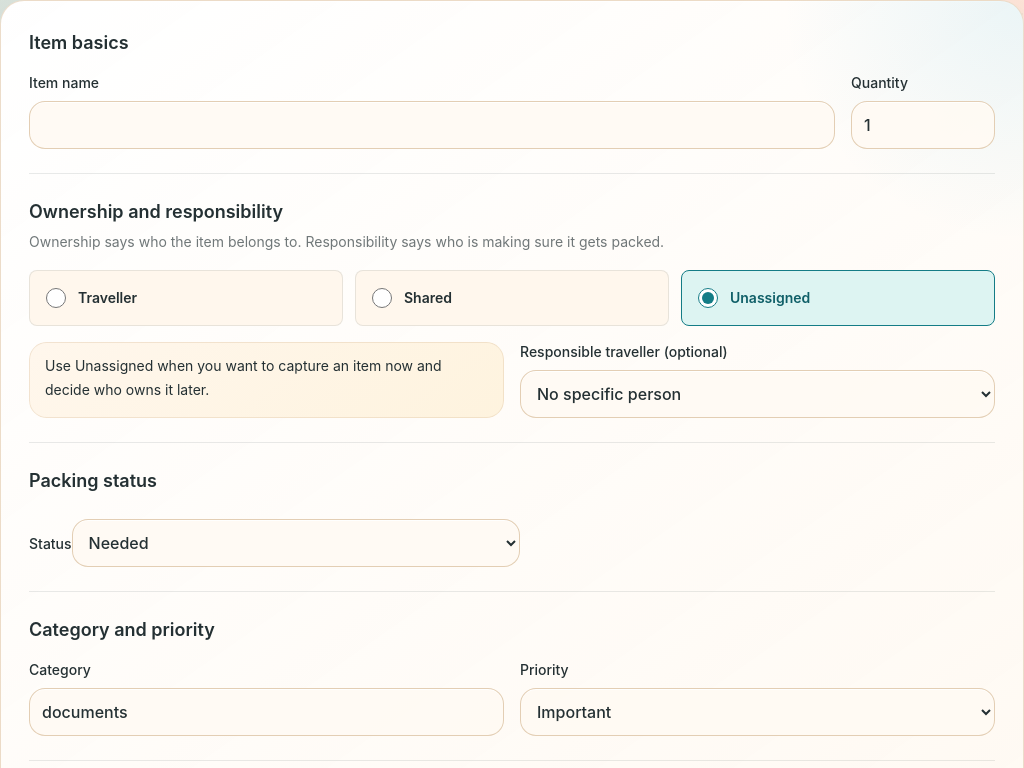
Test case: PackingItemForm › requires a traveller for traveller ownership
Type "Passport" into the field labelled "Item name".
click(432, 125); type("Passport")  # box [29,101,835,149]
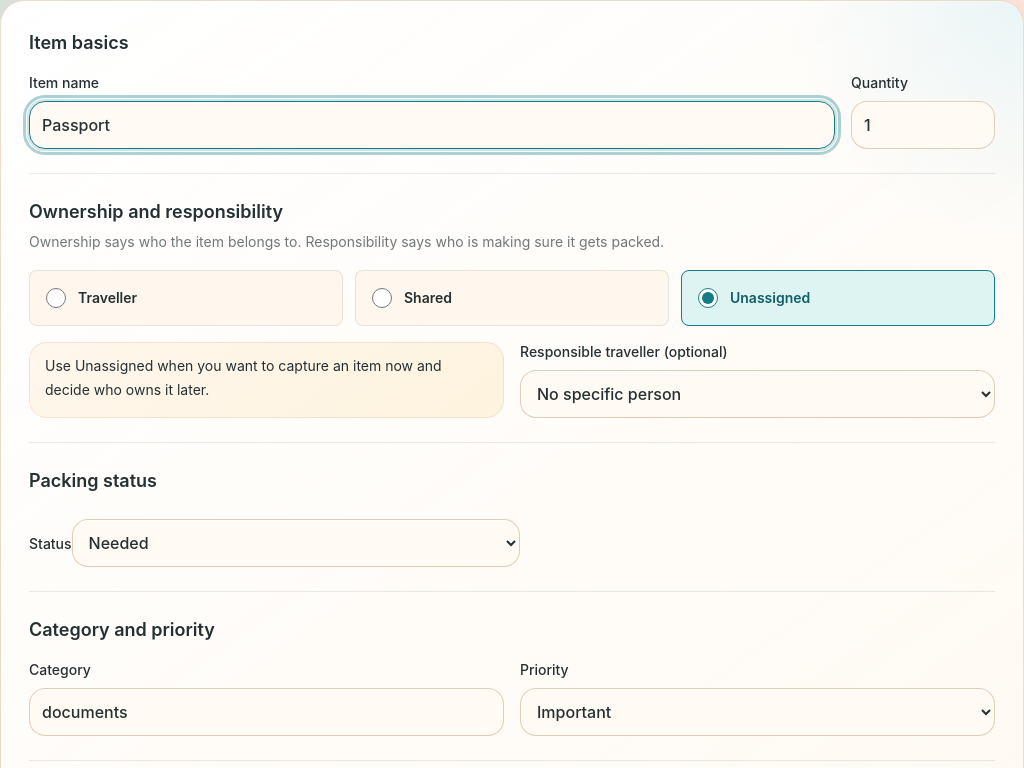
Click the radio button labelled "Traveller".
click(56, 298)  # box [46,288,66,308]
(page scrolled)
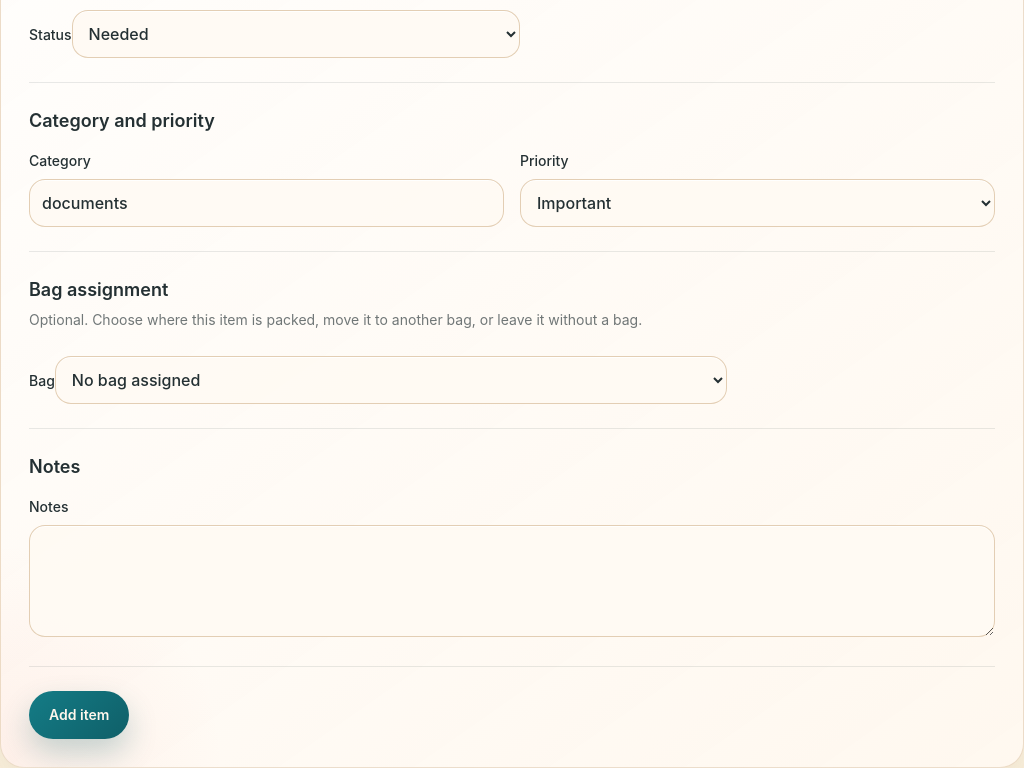
Click the button "Add item".
click(79, 715)  # box [29,691,129,739]
(page scrolled)
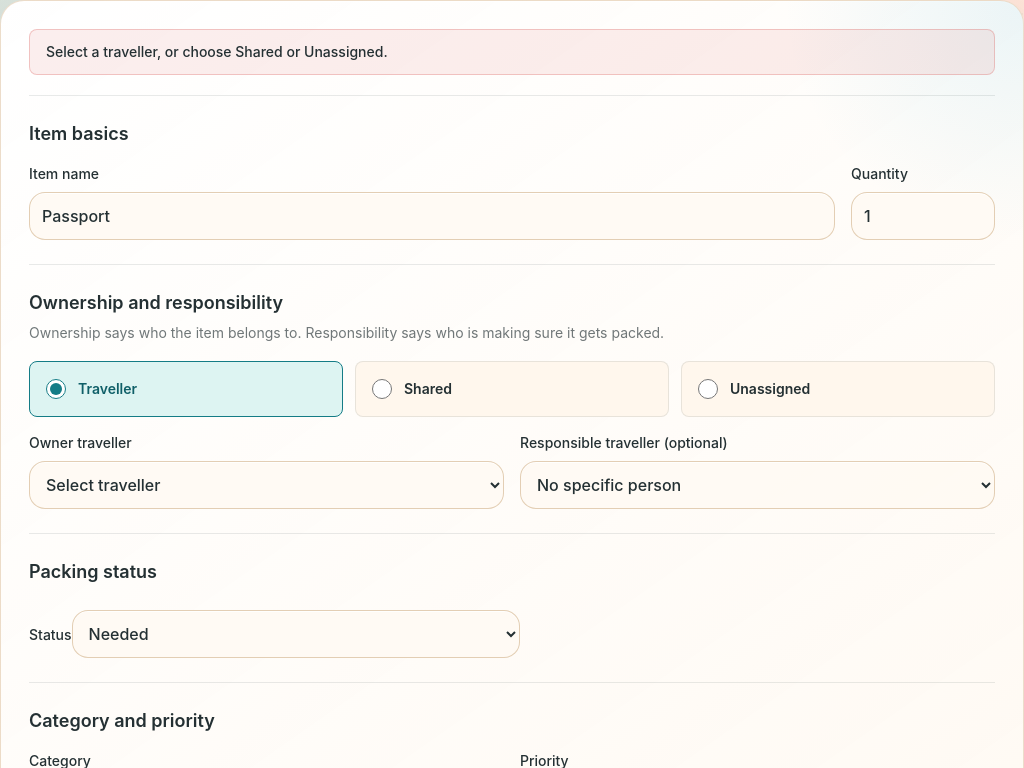
Now the message reads "Select a traveller, or choose Shared or Unassigned.", box [46,43,388,60]
